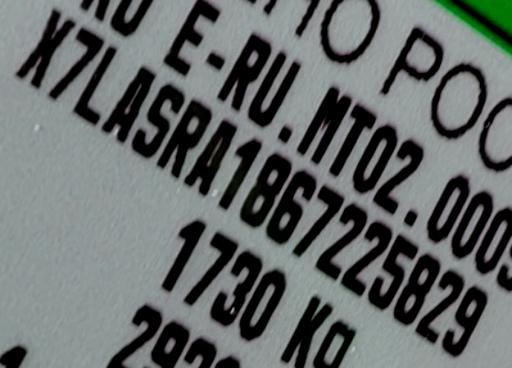letter: (6, 8, 78, 91), (153, 95, 215, 179), (176, 116, 238, 200), (44, 24, 106, 103), (283, 180, 347, 256), (98, 62, 158, 143), (311, 199, 371, 278), (362, 230, 420, 311), (128, 79, 186, 160), (69, 43, 125, 126), (412, 265, 468, 344), (264, 167, 320, 245), (340, 218, 394, 297), (238, 150, 294, 226), (210, 132, 264, 210), (390, 248, 444, 323), (439, 281, 491, 355)
